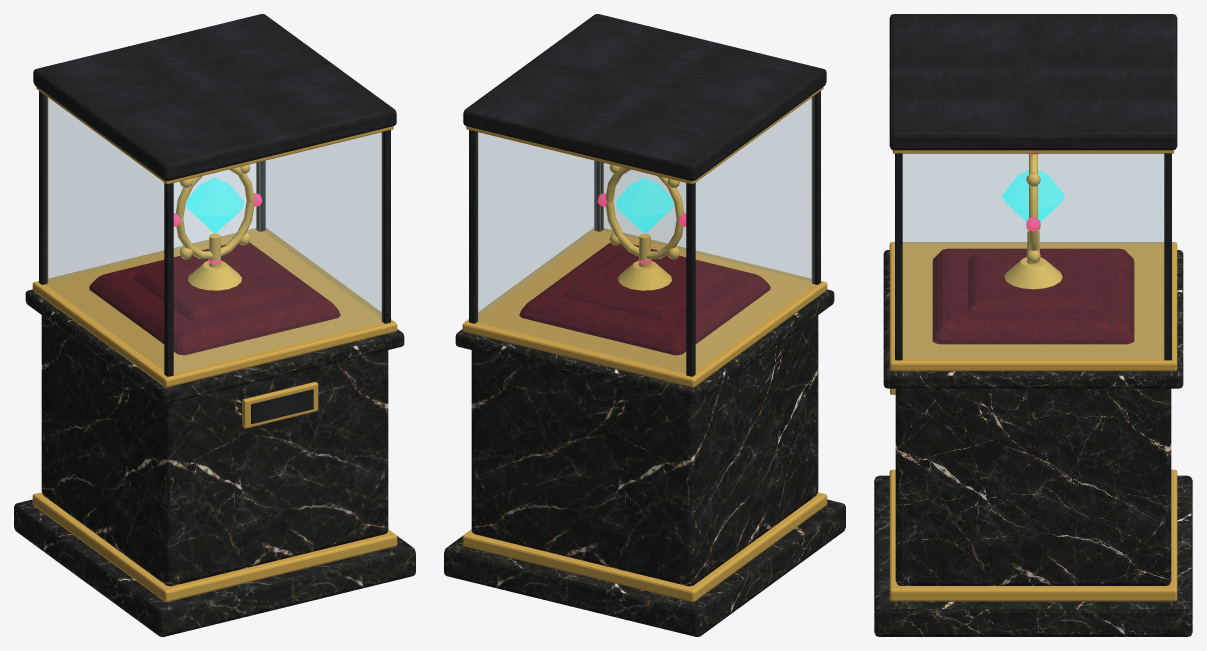
The model's file is display_case.glb.
3 views of the same model, side by side, from view 1: azimuth 30°, elevation 25°; view 2: azimuth 150°, elevation 25°; view 3: azimuth 270°, elevation 25° (orthographic). The views are drawn at different scales.
Visible parts, largest first — view 1: Pedestal, Glass_Hood, Artifact; view 2: Pedestal, Glass_Hood, Artifact; view 3: Pedestal, Glass_Hood, Artifact.
Boxes of the visible parts, x1,y1,x2,y2 form: Pedestal: (14, 228, 415, 636); Glass_Hood: (33, 14, 396, 376); Artifact: (173, 164, 262, 290); Pedestal: (444, 228, 845, 636); Glass_Hood: (463, 14, 826, 376); Artifact: (597, 164, 686, 290); Pedestal: (874, 242, 1192, 636); Glass_Hood: (889, 14, 1177, 360); Artifact: (1001, 153, 1065, 289).
Bounding box in the file's own units: 1.04 × 1.8 × 1.04.
9 materials, 3 textured.
